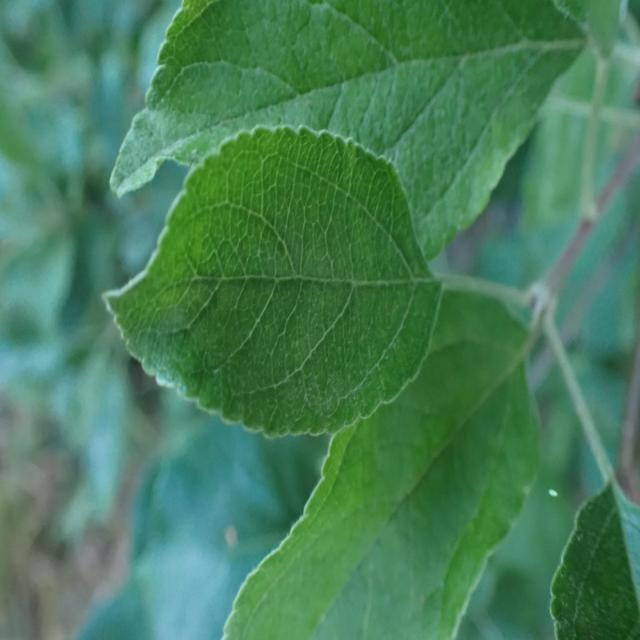healthy: (110, 0, 588, 264), (219, 287, 541, 640), (101, 124, 443, 440), (549, 477, 639, 640)
